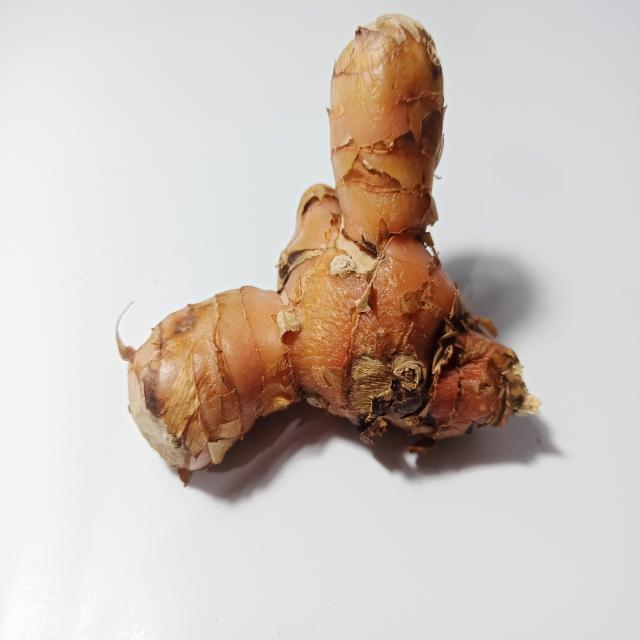ginger: (121, 13, 534, 456)
